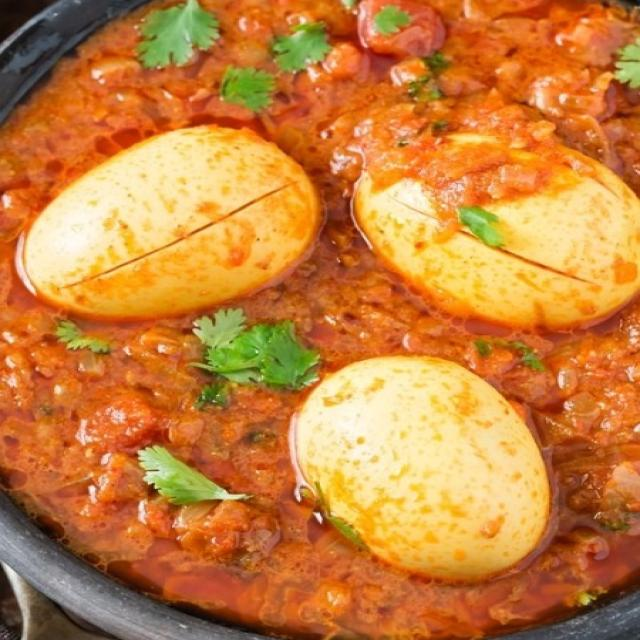EGG: (0, 0, 639, 638)
